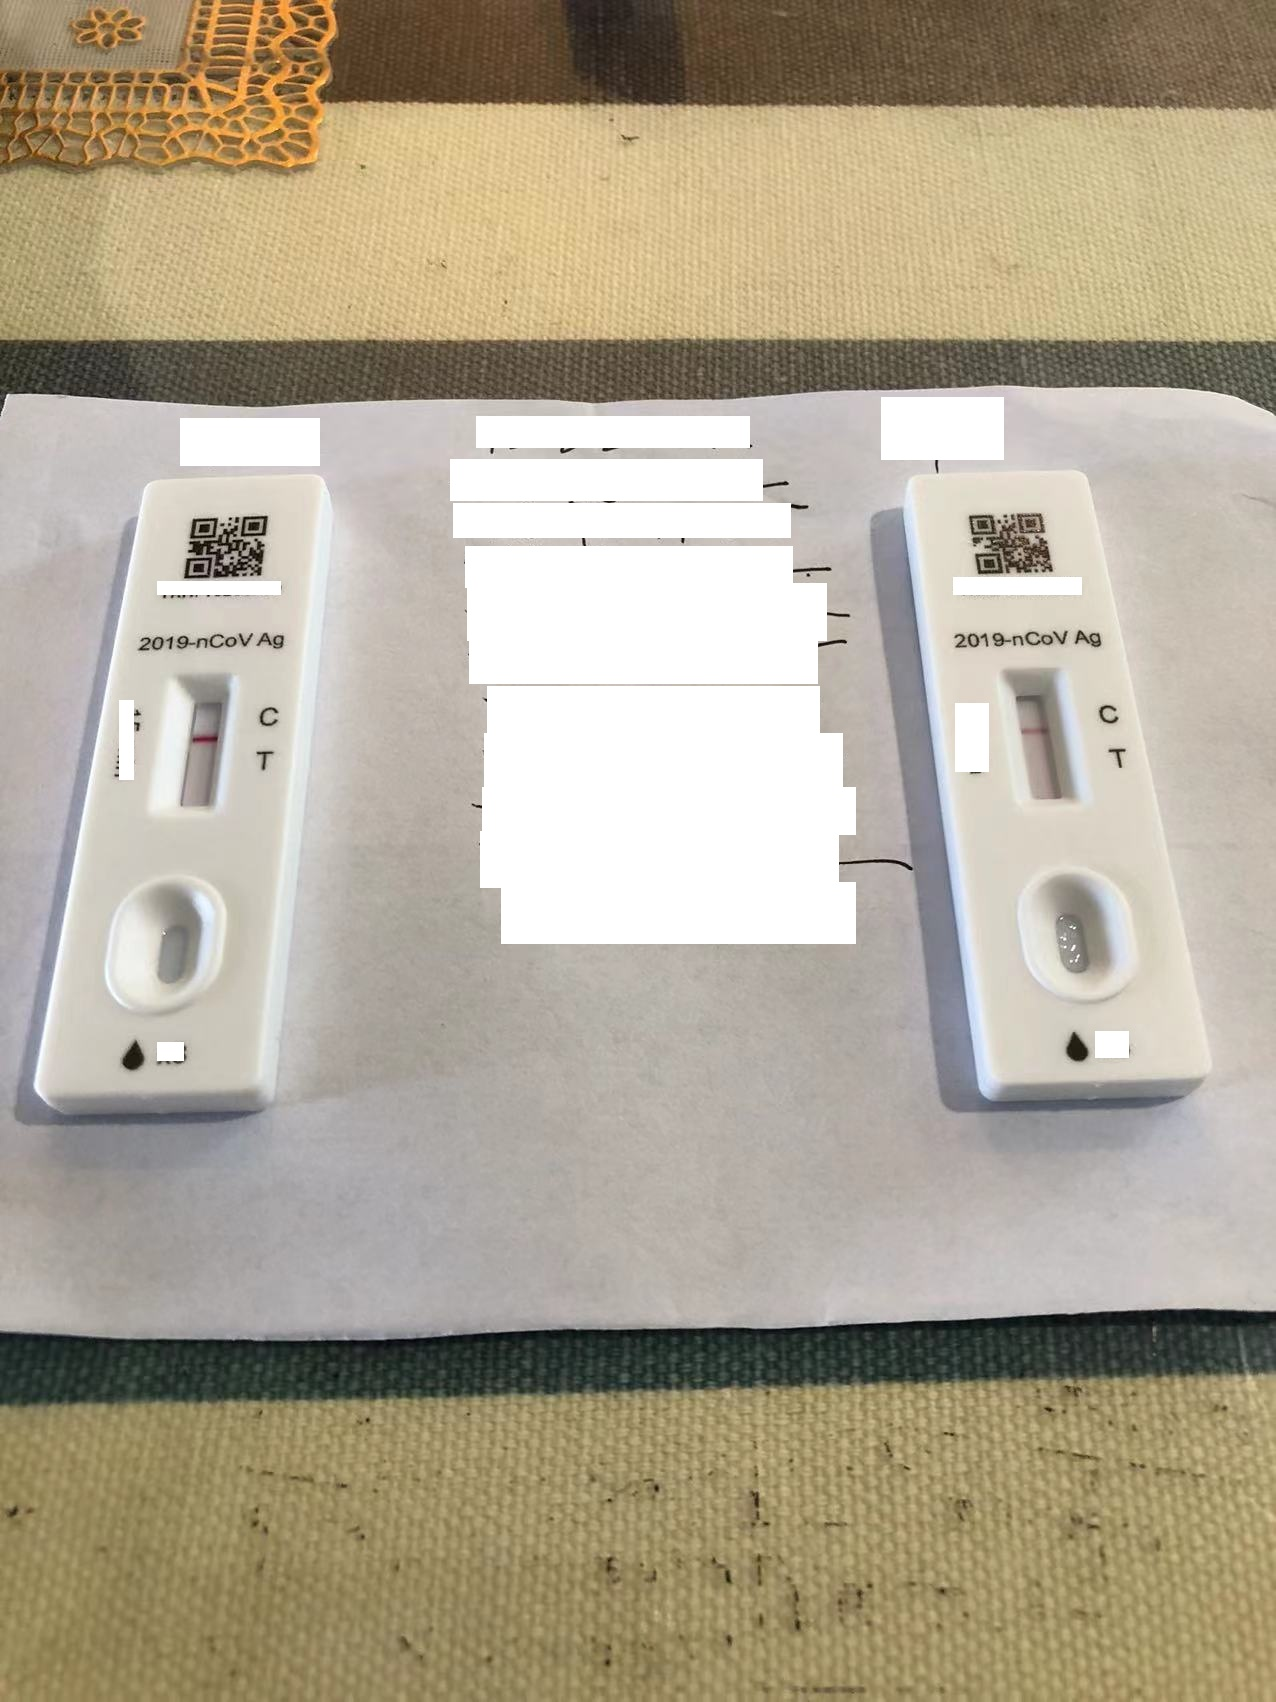negative: (157, 667, 240, 813), (1001, 663, 1080, 809)
